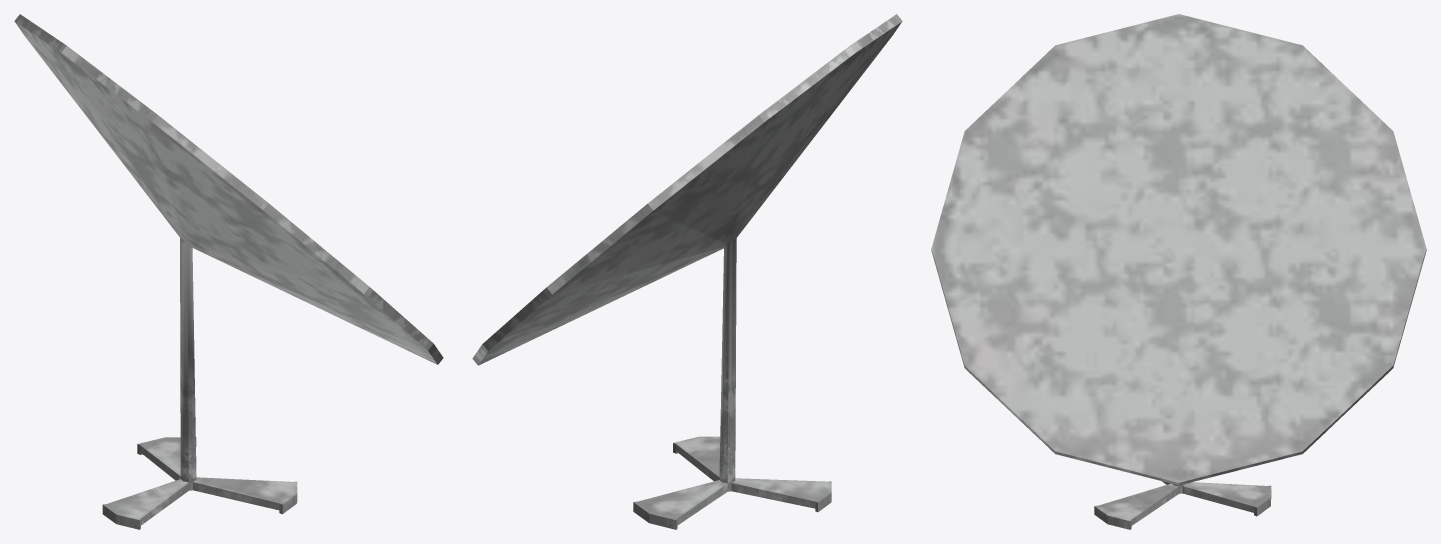
File: bw-table-tipped.lod1.glb
3 renders of one model, left to right at view 1: azimuth 30°, elevation 25°; view 2: azimuth 150°, elevation 25°; view 3: azimuth 270°, elevation 25°, orthographic. The views are drawn at different scales.
Parts seen in each view (by area): view 1: pCylinder5_lambert1_0; view 2: pCylinder5_lambert1_0; view 3: pCylinder5_lambert1_0.
Part boxes in pixels (x1=…): pCylinder5_lambert1_0: x1=14, y1=14, x2=443, y2=529; pCylinder5_lambert1_0: x1=472, y1=14, x2=902, y2=529; pCylinder5_lambert1_0: x1=931, y1=14, x2=1426, y2=529.
Bounding box in the file's own units: 1.13 × 1.52 × 1.6.
Materials: 1 (1 with a texture image).
